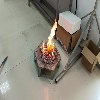fire: (42, 17, 57, 58)
